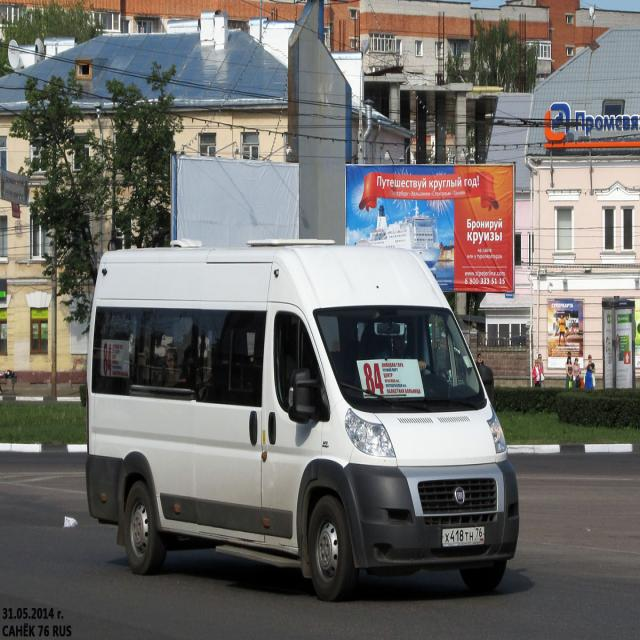number-of-bus: (362, 360, 385, 398)
